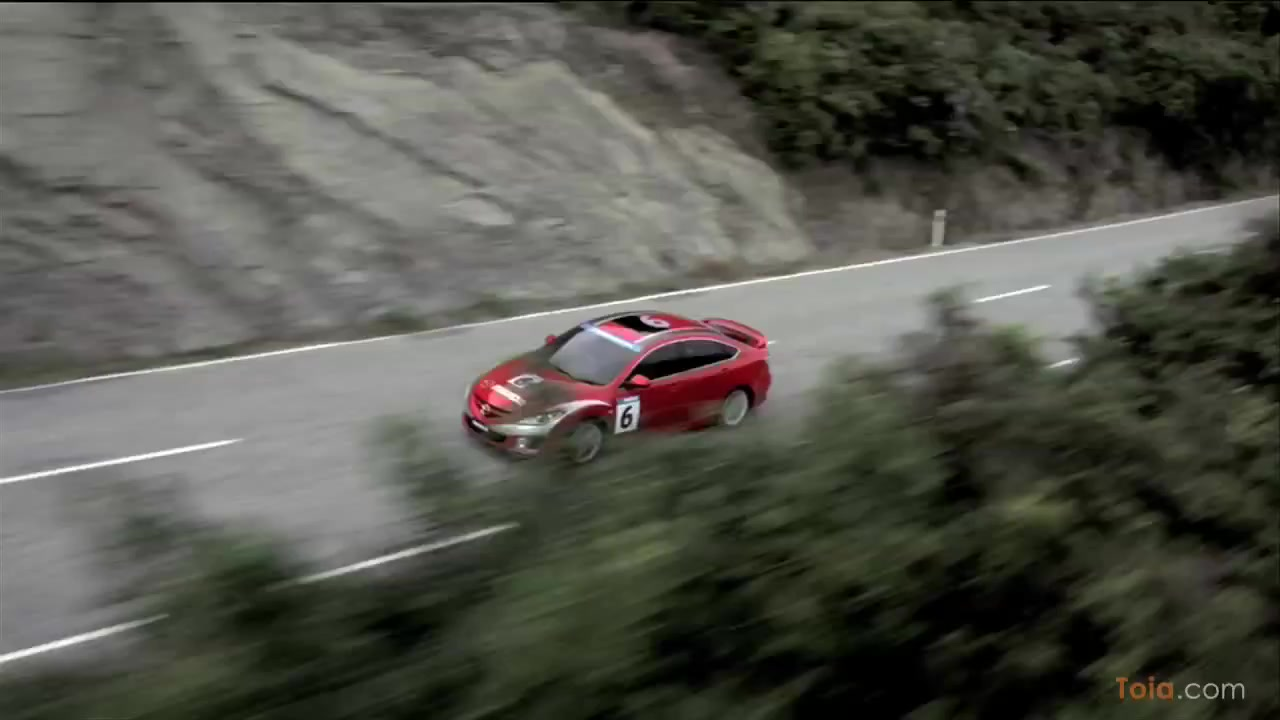car: (461, 311, 775, 472)
